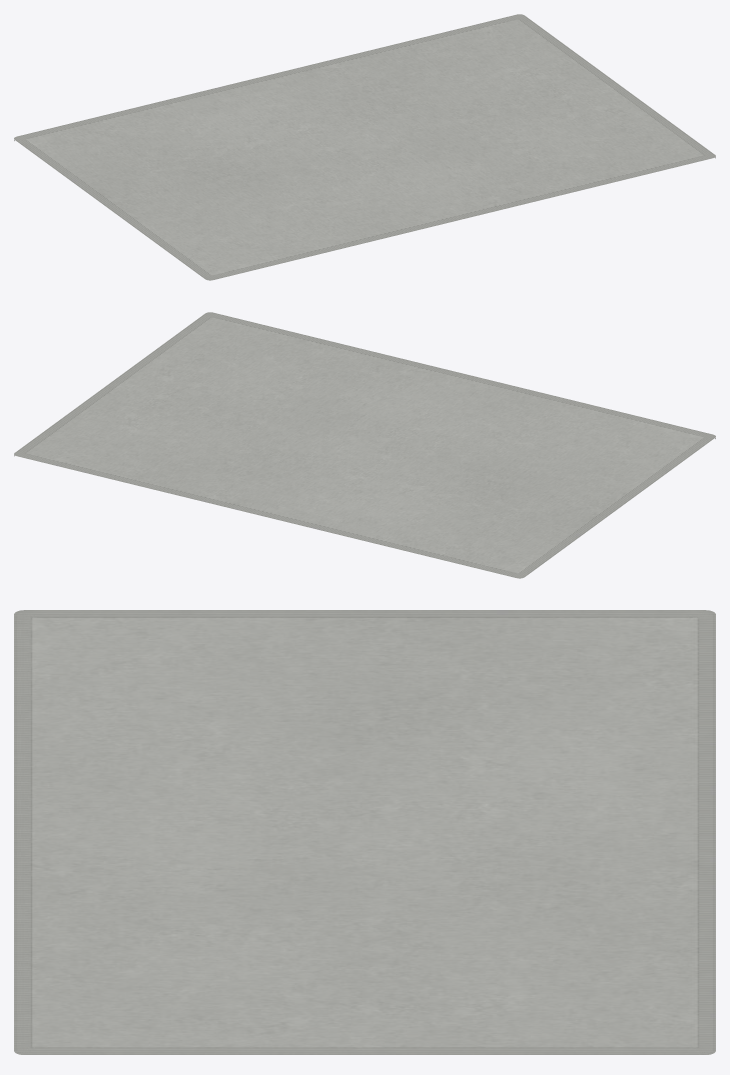
Rendered from gray_S_r90.glb.
3 views of the same model, one above another, from view 1: azimuth 30°, elevation 25°; view 2: azimuth 150°, elevation 25°; view 3: azimuth 270°, elevation 25° (orthographic). The views are drawn at different scales.
Parts seen in each view (by area): view 1: reliv_gray_S_r90; view 2: reliv_gray_S_r90; view 3: reliv_gray_S_r90.
Boxes of the visible parts, x1=… form: reliv_gray_S_r90: x1=14, y1=14, x2=715, y2=280; reliv_gray_S_r90: x1=14, y1=312, x2=715, y2=578; reliv_gray_S_r90: x1=14, y1=610, x2=715, y2=1054.
Bounding box in the file's own units: 1.5 × 0.009 × 1.
Materials: 2 (1 with a texture image).
